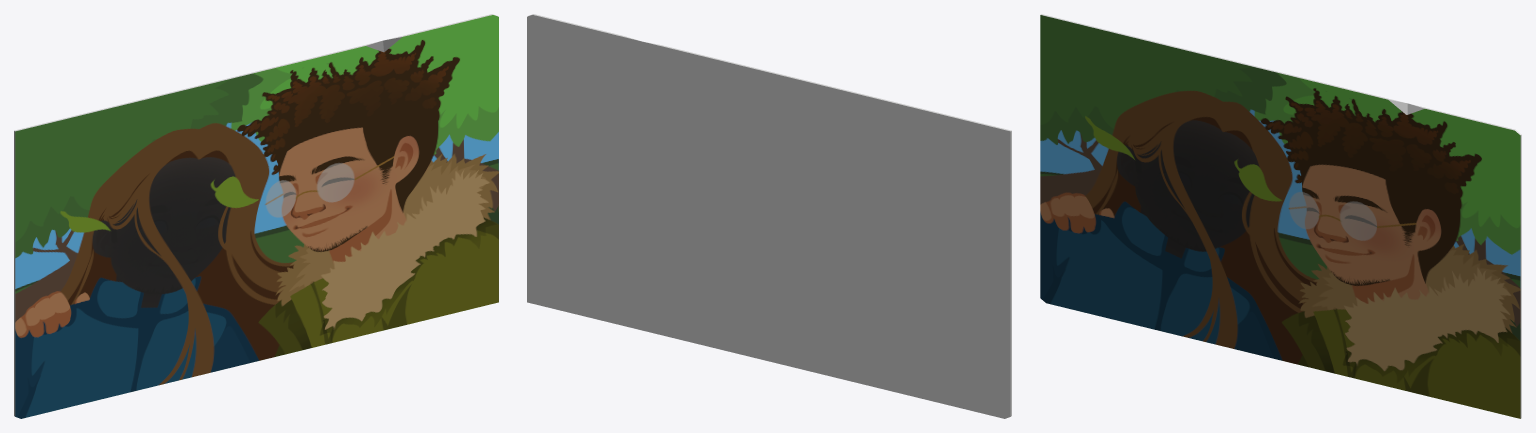
The model's file is picture2.fbx.
3 views of the same model, side by side, from view 1: azimuth 30°, elevation 25°; view 2: azimuth 150°, elevation 25°; view 3: azimuth 330°, elevation 25° (orthographic).
Visible parts, largest first — view 1: Picture; view 2: Picture; view 3: Picture.
Part boxes in pixels (x1=…): Picture: x1=14, y1=14, x2=498, y2=418; Picture: x1=527, y1=14, x2=1011, y2=418; Picture: x1=1040, y1=14, x2=1521, y2=418.
Bounding box in the file's own units: 153 × 87.4 × 0.6316.
Materials: 2 (1 with a texture image).
